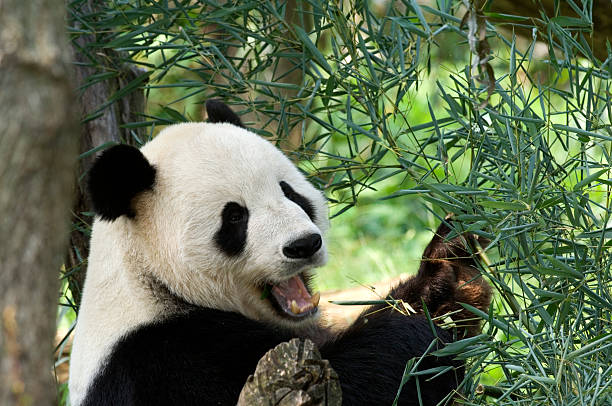panda: (92, 81, 354, 359)
